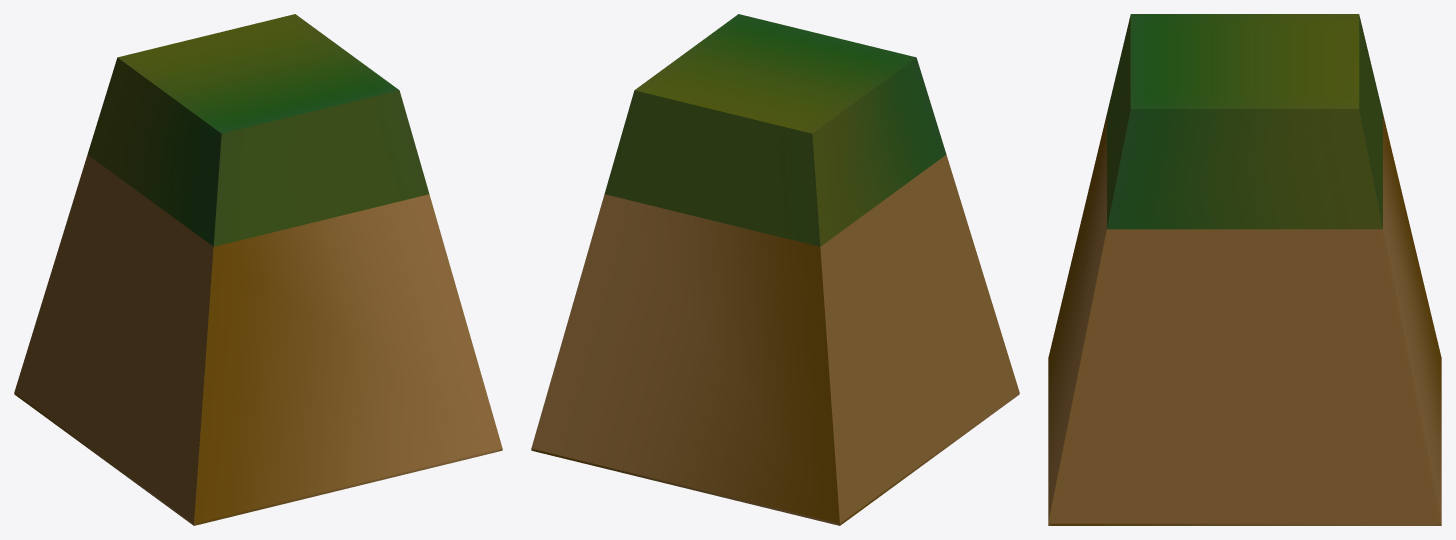
The model's file is pillar_default.FBX.
3 renders of one model, left to right at view 1: azimuth 30°, elevation 25°; view 2: azimuth 150°, elevation 25°; view 3: azimuth 270°, elevation 25°, orthographic. The views are drawn at different scales.
Parts seen in each view (by area): view 1: Box001; view 2: Box001; view 3: Box001.
Part boxes in pixels (x1,y1,x2,y2): Box001: [14, 14, 502, 525]; Box001: [531, 14, 1019, 525]; Box001: [1048, 14, 1441, 525].
Bounding box in the file's own units: 79.41 × 85.74 × 80.08.
Materials: 2 (2 with a texture image).
